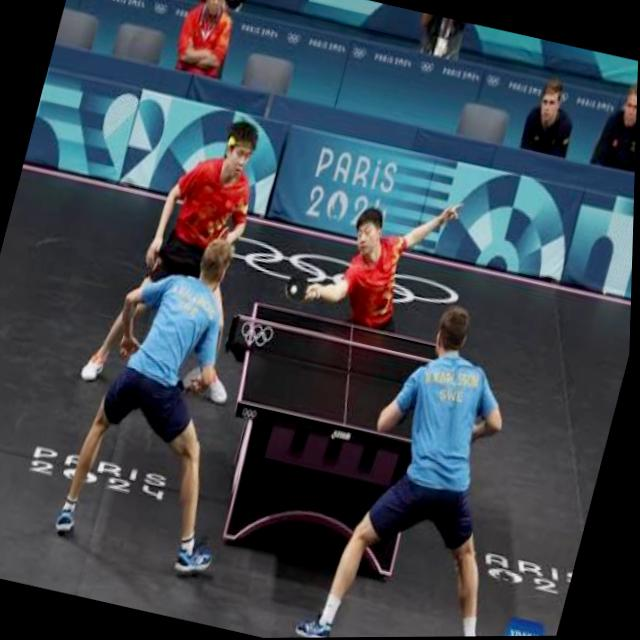TT Net: (222, 312, 481, 411)
TT Racket: (283, 268, 308, 305)
TT Table: (238, 300, 455, 450)
